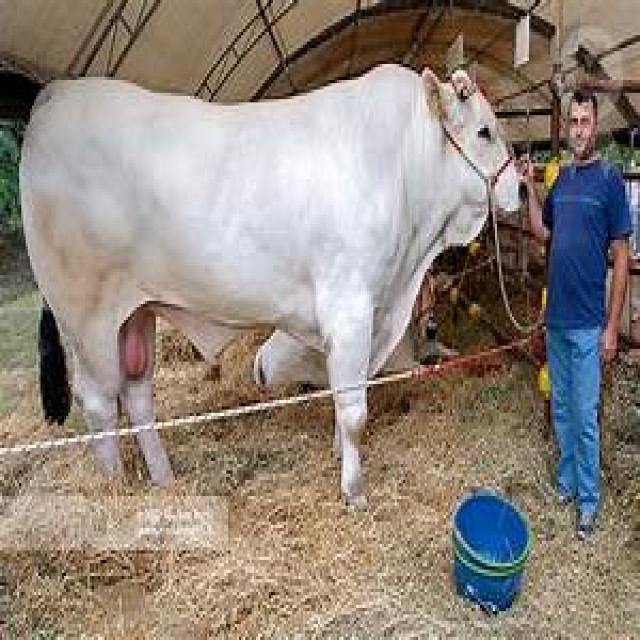animal: (19, 66, 528, 498)
